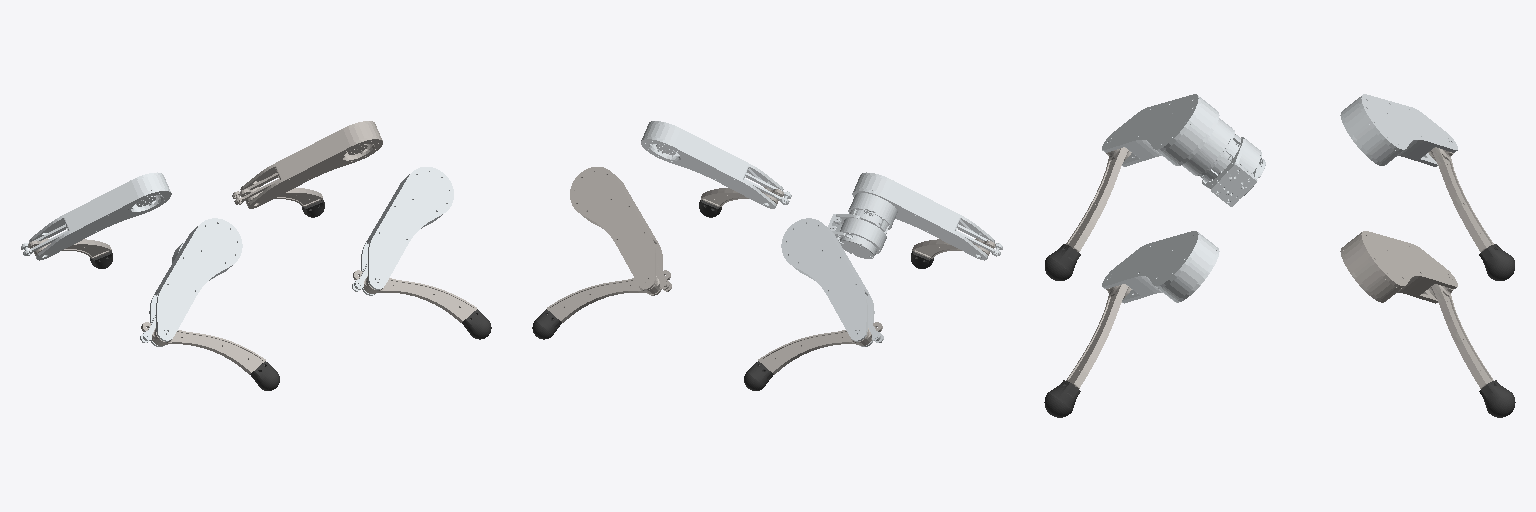
The robot description file, URDF, robot "UIKA":
<robot name="UIKA">
  <link name="base">
    <inertial>
      <origin xyz="0.0244601604295195 9.7147160935257E-06 -0.0652622301807644" rpy="0 0 0" />
      <mass value="6.47472235" />
      <inertia ixx="0.02225871" ixy="0.00009335" ixz="-0.00150776" iyy="0.09311171" iyz="-0.00001811" izz="0.10176737" />
    </inertial>
    <visual>
      <origin xyz="0 0 0" rpy="0 0 0" />
      <geometry>
        <mesh filename="../meshes/base.STL" />
      </geometry>
      <material name="">
        <color rgba="0.898039215686275 0.917647058823529 0.929411764705882 1" />
      </material>
    </visual>
    <collision>
      <origin xyz="0.09154745191 -0.001084361225 -0.05999999924" rpy="0 0 0" />
      <geometry>
        <box size="0.4913740484 0.1889490587 0.1199999989" />
      </geometry>
    </collision>
  </link>
  <link name="FL_hip">
    <inertial>
      <origin xyz="0.041502623504086 0.0086843970803633 0.00821436880776207" rpy="0 0 0" />
      <mass value="0.93308959" />
      <inertia ixx="0.00115660" ixy="-0.00005410" ixz="-0.00006410" iyy="0.00108607" iyz="-0.00014395" izz="0.00112138" />
    </inertial>
    <visual>
      <origin xyz="0 0 0" rpy="0 0 0" />
      <geometry>
        <mesh filename="../meshes/FL_hip.STL" />
      </geometry>
      <material name="">
        <color rgba="0.898039215686275 0.917647058823529 0.929411764705882 1" />
      </material>
    </visual>
    <collision>
      <origin xyz="0.04814458382 0.01172071323 0.008955933154" rpy="0 0 0" />
      <geometry>
        <box size="0.08928919625 0.09920827574 0.09695612913" />
      </geometry>
    </collision>
  </link>
  <joint name="FL_hip_joint" type="revolute">
    <origin xyz="0.153000439855044 0.0600003842452415 -0.0600006101205791" rpy="0 0 0" />
    <parent link="base" />
    <child link="FL_hip" />
    <axis xyz="1 0 0" />
    <limit lower="-1.5" upper="0" effort="17" velocity="28.80" />
  </joint>
  <link name="FL_thigh">
    <inertial>
      <origin xyz="-0.0535079311803026 0.0342248959703678 -0.0182912999249647" rpy="0 0 0" />
      <mass value="0.47644935" />
      <inertia ixx="0.00108740" ixy="0.00071343" ixz="-0.00080897" iyy="0.00227804" iyz="0.00047098" izz="0.00215817" />
    </inertial>
    <visual>
      <origin xyz="0 0 0" rpy="0 0 0" />
      <geometry>
        <mesh filename="../meshes/FL_thigh.STL" />
      </geometry>
      <material name="">
        <color rgba="0.776470588235294 0.756862745098039 0.737254901960784 1" />
      </material>
    </visual>
    <collision>
      <origin xyz="-0.07777747256 0.0466698466 -0.03210797073" rpy="-0.732565924 -0.4562952196 -0.4494476308" />
      <geometry>
        <box size="0.2705777508 0.05168404862 0.03284791567" />
      </geometry>
    </collision>
  </link>
  <joint name="FL_thigh_joint" type="revolute">
    <origin xyz="0.0560002933981102 0.0508445597819099 0.0443970251456514" rpy="0 0 0" />
    <parent link="FL_hip" />
    <child link="FL_thigh" />
    <axis xyz="0 0.753262811155553 0.657719649493638" />
    <limit lower="-0.785" upper="0.785" effort="17" velocity="28.80" />
  </joint>
  <link name="FL_calf">
    <inertial>
      <origin xyz="0.0700106998990062 -0.0161508220308323 -0.00126830095792598" rpy="0 0 0" />
      <mass value="0.14745425" />
      <inertia ixx="0.00002291" ixy="0.00003985" ixz="-0.00004564" iyy="0.00073762" iyz="0.00000899" izz="0.00073518" />
    </inertial>
    <visual>
      <origin xyz="0 0 0" rpy="0 0 0" />
      <geometry>
        <mesh filename="../meshes/FL_calf.STL" />
      </geometry>
      <material name="">
        <color rgba="0.776470588235294 0.756862745098039 0.737254901960784 1" />
      </material>
    </visual>
    <collision>
      <origin xyz="0.0835572002 -0.0137250407 -0.004052046176" rpy="-0.8511894181 -0.05312681347 -0.04650555504" />
      <geometry>
        <box size="0.2076722985 0.02715135214 0.02148741647" />
      </geometry>
    </collision>
  </link>
  <joint name="FL_calf_joint" type="revolute">
    <origin xyz="-0.152226491053868 0.105657558324466 -0.0799549009122722" rpy="0 0 0" />
    <parent link="FL_thigh" />
    <child link="FL_calf" />
    <axis xyz="0 0.753262811155552 0.657719649493639" />
    <limit lower="0.1" upper="1.11" effort="31.7" velocity="15.43" />
  </joint>
  <link name="FL_foot">
    <inertial>
      <origin xyz="-0.0105505773074865 -0.00416923992710105 0.00477478616568455" rpy="0 0 0" />
      <mass value="0.04697856" />
      <inertia ixx="0.00000818" ixy="-0.00000032" ixz="0.00000037" iyy="0.00000923" iyz="0.00000050" izz="0.00000910" />
    </inertial>
    <visual>
      <origin xyz="0 0 0" rpy="0 0 0" />
      <geometry>
        <mesh filename="../meshes/FL_foot.STL" />
      </geometry>
      <material name="">
        <color rgba="0.298039215686275 0.298039215686275 0.298039215686275 1" />
      </material>
    </visual>
    <collision>
      <origin xyz="-0.01259501558 -0.004777973425 0.005901887082" rpy="0 0 0" />
      <geometry>
        <sphere radius="0.02527480633" />
      </geometry>
    </collision>
  </link>
  <joint name="FL_foot_joint" type="fixed">
    <origin xyz="0.211745241606516 -0.00368975133737329 -0.016299725536693" rpy="0 0 0" />
    <parent link="FL_calf" />
    <child link="FL_foot" />
    <axis xyz="0 0 0" />
  </joint>
  <link name="FR_hip">
    <inertial>
      <origin xyz="0.0416082150818489 -0.0109456301889381 0.00962420477730419" rpy="0 0 0" />
      <mass value="0.93308959" />
      <inertia ixx="0.00105348" ixy="-0.00012973" ixz="0.00003991" iyy="0.00113633" iyz="0.00003275" izz="0.00114449" />
    </inertial>
    <visual>
      <origin xyz="0 0 0" rpy="0 0 0" />
      <geometry>
        <mesh filename="../meshes/FR_hip.STL" />
      </geometry>
      <material name="">
        <color rgba="0.898039215686275 0.917647058823529 0.929411764705882 1" />
      </material>
    </visual>
    <collision>
      <origin xyz="0.04814374167 -0.01172472537 0.008995161019" rpy="0 0 0" />
      <geometry>
        <box size="0.08928748308 0.0993450982 0.09694977491" />
      </geometry>
    </collision>
  </link>
  <joint name="FR_hip_joint" type="revolute">
    <origin xyz="0.153000425358075 -0.0600004472669823 -0.0600003113075975" rpy="0 0 0" />
    <parent link="base" />
    <child link="FR_hip" />
    <axis xyz="1 0 0" />
    <limit lower="0" upper="1.5" effort="17" velocity="28.80" />
  </joint>
  <link name="FR_thigh">
    <inertial>
      <origin xyz="-0.0546430623963081 -0.0347713185302399 -0.0188706114144794" rpy="0 0 0" />
      <mass value="0.48074554" />
      <inertia ixx="0.00112214" ixy="-0.00074760" ixz="-0.00084531" iyy="0.00236837" iyz="-0.00048819" izz="0.00224642" />
    </inertial>
    <visual>
      <origin xyz="0 0 0" rpy="0 0 0" />
      <geometry>
        <mesh filename="../meshes/FR_thigh.STL" />
      </geometry>
      <material name="">
        <color rgba="0.898039215686275 0.917647058823529 0.929411764705882 1" />
      </material>
    </visual>
    <collision>
      <origin xyz="-0.07822487111 -0.04710120008 -0.03174119214" rpy="0.7353276846 -0.4464736266 0.4538729622" />
      <geometry>
        <box size="0.2711148997 0.05034341871 0.03262728444" />
      </geometry>
    </collision>
  </link>
  <joint name="FR_thigh_joint" type="revolute">
    <origin xyz="0.0560001435635803 -0.0508451382424889 0.0443959916658049" rpy="0 0 0" />
    <parent link="FR_hip" />
    <child link="FR_thigh" />
    <axis xyz="0 0.753262811155038 -0.657719649494228" />
    <limit lower="-0.785" upper="0.785" effort="17" velocity="28.80" />
  </joint>
  <link name="FR_calf">
    <inertial>
      <origin xyz="0.0700106999081558 0.0161508219365641 -0.00126830087912655" rpy="0 0 0" />
      <mass value="0.14745425" />
      <inertia ixx="0.00002291" ixy="-0.00003985" ixz="-0.00004564" iyy="0.00073762" iyz="-0.00000899" izz="0.00073518" />
    </inertial>
    <visual>
      <origin xyz="0 0 0" rpy="0 0 0" />
      <geometry>
        <mesh filename="../meshes/FR_calf.STL" />
      </geometry>
      <material name="">
        <color rgba="0.776470588235294 0.756862745098039 0.737254901960784 1" />
      </material>
    </visual>
    <collision>
      <origin xyz="0.08355702524 0.01372168078 -0.004044771629" rpy="0.8523339023 -0.05320056182 0.04645680114" />
      <geometry>
        <box size="0.2076725976 0.02709136894 0.02148716021" />
      </geometry>
    </collision>
  </link>
  <joint name="FR_calf_joint" type="revolute">
    <origin xyz="-0.152226326722374 -0.105656916842211 -0.079954166245416" rpy="0 0 0" />
    <parent link="FR_thigh" />
    <child link="FR_calf" />
    <axis xyz="0 0.753262811155038 -0.657719649494228" />
    <limit lower="0.1" upper="1.11" effort="31.7" velocity="15.43" />
  </joint>
  <link name="FR_foot">
    <inertial>
      <origin xyz="-0.0105505596525039 0.0041691393732978 0.00477486519176461" rpy="0 0 0" />
      <mass value="0.04697856" />
      <inertia ixx="0.00000818" ixy="0.00000032" ixz="0.00000037" iyy="0.00000923" iyz="-0.00000050" izz="0.00000910" />
    </inertial>
    <visual>
      <origin xyz="0 0 0" rpy="0 0 0" />
      <geometry>
        <mesh filename="../meshes/FR_foot.STL" />
      </geometry>
      <material name="">
        <color rgba="0.298039215686275 0.298039215686275 0.298039215686275 1" />
      </material>
    </visual>
    <collision>
      <origin xyz="-0.01259501558 0.004715404473 0.006002067123" rpy="0 0 0" />
      <geometry>
        <sphere radius="0.02527480633" />
      </geometry>
    </collision>
  </link>
  <joint name="FR_foot_joint" type="fixed">
    <origin xyz="0.211745241606515 0.00368974797525654 -0.0162997226010469" rpy="0 0 0" />
    <parent link="FR_calf" />
    <child link="FR_foot" />
    <axis xyz="0 0 0" />
  </joint>
  <link name="RL_hip">
    <inertial>
      <origin xyz="-0.0415762323375138 0.0106832900427888 0.00992417004934181" rpy="0 0 0" />
      <mass value="0.93308959" />
      <inertia ixx="0.00113965" ixy="0.00003304" ixz="0.00002796" iyy="0.00107973" iyz="-0.00013571" izz="0.00111052" />
    </inertial>
    <visual>
      <origin xyz="0 0 0" rpy="0 0 0" />
      <geometry>
        <mesh filename="../meshes/RL_hip.STL" />
      </geometry>
      <material name="">
        <color rgba="0.898039215686275 0.917647058823529 0.929411764705882 1" />
      </material>
    </visual>
    <collision>
      <origin xyz="-0.04814351443 0.01168888435 0.008976129815" rpy="0 0 0" />
      <geometry>
        <box size="0.0892870286 0.0992726115 0.09691342613" />
      </geometry>
    </collision>
  </link>
  <joint name="RL_hip_joint" type="revolute">
    <origin xyz="-0.152999574641922 0.0600000459667993 -0.0599994570016295" rpy="0 0 0" />
    <parent link="base" />
    <child link="RL_hip" />
    <axis xyz="1 0 0" />
    <limit lower="-1.5" upper="0" effort="17" velocity="28.80" />
  </joint>
  <link name="RL_thigh">
    <inertial>
      <origin xyz="-0.0546432281259843 0.0347920398038711 -0.018853834665978" rpy="0 0 0" />
      <mass value="0.48074554" />
      <inertia ixx="0.00112214" ixy="0.00074879" ixz="-0.00084426" iyy="0.00236726" iyz="0.00048833" izz="0.00224753" />
    </inertial>
    <visual>
      <origin xyz="0 0 0" rpy="0 0 0" />
      <geometry>
        <mesh filename="../meshes/RL_thigh.STL" />
      </geometry>
      <material name="">
        <color rgba="0.898039215686275 0.917647058823529 0.929411764705882 1" />
      </material>
    </visual>
    <collision>
      <origin xyz="-0.07830379943 0.04695634479 -0.03171024505" rpy="-0.7364108602 -0.4476116713 -0.4527950218" />
      <geometry>
        <box size="0.2710880794 0.05022204309 0.03278092425" />
      </geometry>
    </collision>
  </link>
  <joint name="RL_thigh_joint" type="revolute">
    <origin xyz="-0.0559996921049242 0.0508448980603474 0.044395872026712" rpy="0 0 0" />
    <parent link="RL_hip" />
    <child link="RL_thigh" />
    <axis xyz="0 0.753262811155552 0.657719649493639" />
    <limit lower="-0.785" upper="0.785" effort="17" velocity="28.80" />
  </joint>
  <link name="RL_calf">
    <inertial>
      <origin xyz="0.0700106998990035 -0.0161508220308297 -0.00126830095791819" rpy="0 0 0" />
      <mass value="0.14745425" />
      <inertia ixx="0.00002291" ixy="0.00003985" ixz="-0.00004564" iyy="0.00073762" iyz="0.00000899" izz="0.00073518" />
    </inertial>
    <visual>
      <origin xyz="0 0 0" rpy="0 0 0" />
      <geometry>
        <mesh filename="../meshes/RL_calf.STL" />
      </geometry>
      <material name="">
        <color rgba="0.776470588235294 0.756862745098039 0.737254901960784 1" />
      </material>
    </visual>
    <collision>
      <origin xyz="0.08355485491 -0.01374565819 -0.004028340964" rpy="-0.851213705 -0.0530876326 -0.04647040152" />
      <geometry>
        <box size="0.2076716374 0.02705380749 0.02148748752" />
      </geometry>
    </collision>
  </link>
  <joint name="RL_calf_joint" type="revolute">
    <origin xyz="-0.152226491053865 0.105657558324469 -0.0799549009122762" rpy="0 0 0" />
    <parent link="RL_thigh" />
    <child link="RL_calf" />
    <axis xyz="0 0.753262811155552 0.657719649493639" />
    <limit lower="0.1" upper="1.11" effort="31.7" velocity="15.43" />
  </joint>
  <link name="RL_foot">
    <inertial>
      <origin xyz="-0.0105505773074851 -0.00416923992709536 0.00477478616567673" rpy="0 0 0" />
      <mass value="0.04697856" />
      <inertia ixx="0.00000818" ixy="-0.00000032" ixz="0.00000037" iyy="0.00000923" iyz="0.00000050" izz="0.00000910" />
    </inertial>
    <visual>
      <origin xyz="0 0 0" rpy="0 0 0" />
      <geometry>
        <mesh filename="../meshes/RL_foot.STL" />
      </geometry>
      <material name="">
        <color rgba="0.298039215686275 0.298039215686275 0.298039215686275 1" />
      </material>
    </visual>
    <collision>
      <origin xyz="-0.01259501558 -0.004777973425 0.005901887082" rpy="0 0 0" />
      <geometry>
        <sphere radius="0.02527480633" />
      </geometry>
    </collision>
  </link>
  <joint name="RL_foot_joint" type="fixed">
    <origin xyz="0.211745241606513 -0.00368975133737642 -0.0162997255366898" rpy="0 0 0" />
    <parent link="RL_calf" />
    <child link="RL_foot" />
    <axis xyz="0 0 0" />
  </joint>
  <link name="RR_hip">
    <inertial>
      <origin xyz="-0.0416441434460502 -0.0112807381867727 0.00924136075408722" rpy="0 0 0" />
      <mass value="0.93308959" />
      <inertia ixx=" 0.00114347" ixy="-0.00003702" ixz="0.00003020" iyy="0.00107167" iyz="0.00013281" izz="0.00111675" />
    </inertial>
    <visual>
      <origin xyz="0 0 0" rpy="0 0 0" />
      <geometry>
        <mesh filename="../meshes/RR_hip.STL" />
      </geometry>
      <material name="">
        <color rgba="0.898039215686275 0.917647058823529 0.929411764705882 1" />
      </material>
    </visual>
    <collision>
      <origin xyz="-0.04808488768 -0.01232027635 0.009072488174" rpy="0 0 0" />
      <geometry>
        <box size="0.08976775123 0.09853639728 0.09709561518" />
      </geometry>
    </collision>
  </link>
  <joint name="RR_hip_joint" type="revolute">
    <origin xyz="-0.152999574641922 -0.0599994732330435 -0.0600001395591401" rpy="0 0 0" />
    <parent link="base" />
    <child link="RR_hip" />
    <axis xyz="1 0 0" />
    <limit lower="0" upper="1.5" effort="17" velocity="28.80" />
  </joint>
  <link name="RR_thigh">
    <inertial>
      <origin xyz="-0.0546430755155685 -0.0347713241241802 -0.0188706178210186" rpy="0 0 0" />
      <mass value="0.48074554" />
      <inertia ixx="0.00112214" ixy="-0.00074760" ixz="-0.00084531" iyy="0.00236837" iyz="-0.00048819" izz="0.00224642" />
    </inertial>
    <visual>
      <origin xyz="0 0 0" rpy="0 0 0" />
      <geometry>
        <mesh filename="../meshes/RR_thigh.STL" />
      </geometry>
      <material name="">
        <color rgba="0.898039215686275 0.917647058823529 0.929411764705882 1" />
      </material>
    </visual>
    <collision>
      <origin xyz="-0.07821621533 -0.04710553717 -0.03174936947" rpy="0.7353432916 -0.4464681684 0.4538696304" />
      <geometry>
        <box size="0.2711113719 0.05036885518 0.0326225581" />
      </geometry>
    </collision>
  </link>
  <joint name="RR_thigh_joint" type="revolute">
    <origin xyz="-0.0559998564364221 -0.0508461122763563 0.0443958199174349" rpy="0 0 0" />
    <parent link="RR_hip" />
    <child link="RR_thigh" />
    <axis xyz="0 0.753262811155037 -0.657719649494228" />
    <limit lower="-0.785" upper="0.785" effort="17" velocity="28.80" />
  </joint>
  <link name="RR_calf">
    <inertial>
      <origin xyz="0.0700106999081562 0.0161508219364892 -0.00126830087921848" rpy="0 0 0" />
      <mass value="0.14745425" />
      <inertia ixx="0.00002291" ixy="-0.00003985" ixz="-0.00004564" iyy="0.00073762" iyz="-0.00000899" izz="0.00073518" />
    </inertial>
    <visual>
      <origin xyz="0 0 0" rpy="0 0 0" />
      <geometry>
        <mesh filename="../meshes/RR_calf.STL" />
      </geometry>
      <material name="">
        <color rgba="0.776470588235294 0.756862745098039 0.737254901960784 1" />
      </material>
    </visual>
    <collision>
      <origin xyz="0.08355456196 0.01374457039 -0.004018530258" rpy="0.8523335766 -0.05320048518 0.04645672745" />
      <geometry>
        <box size="0.2076725962 0.02704406263 0.02148733896" />
      </geometry>
    </collision>
  </link>
  <joint name="RR_calf_joint" type="revolute">
    <origin xyz="-0.152226326722374 -0.105656916842211 -0.079954166245416" rpy="0 0 0" />
    <parent link="RR_thigh" />
    <child link="RR_calf" />
    <axis xyz="0 0.753262811155037 -0.657719649494229" />
    <limit lower="0.1" upper="1.11" effort="31.7" velocity="15.43" />
  </joint>
  <link name="RR_foot">
    <inertial>
      <origin xyz="-0.0105505596525041 0.00416913937322885 0.00477486519167573" rpy="0 0 0" />
      <mass value="0.04697856" />
      <inertia ixx="0.00000818" ixy="0.00000032" ixz="0.00000037" iyy="0.00000923" iyz="-0.00000050" izz="0.00000910" />
    </inertial>
    <visual>
      <origin xyz="0 0 0" rpy="0 0 0" />
      <geometry>
        <mesh filename="../meshes/RR_foot.STL" />
      </geometry>
      <material name="">
        <color rgba="0.298039215686275 0.298039215686275 0.298039215686275 1" />
      </material>
    </visual>
    <collision>
      <origin xyz="-0.01259501558 0.004715404473 0.006002067123" rpy="0 0 0" />
      <geometry>
        <sphere radius="0.02527480633" />
      </geometry>
    </collision>
  </link>
  <joint name="RR_foot_joint" type="fixed">
    <origin xyz="0.211745241606515 0.00368974797525667 -0.0162997226010466" rpy="0 0 0" />
    <parent link="RR_calf" />
    <child link="RR_foot" />
    <axis xyz="0 0 0" />
  </joint>
</robot>

--- Render facts (derived) ---
Views: 3 orthographic renders of the robot side by side, from view 1: azimuth 30°, elevation 25°; view 2: azimuth 150°, elevation 25°; view 3: azimuth 270°, elevation 25°.
Model UIKA with 17 links and 16 joints (12 revolute, 4 fixed), rooted at base, posed all joints at 0 but 4 set to mid-range because 0 is outside their limits (FL_calf_joint = 0.605, FR_calf_joint = 0.605, RL_calf_joint = 0.605, RR_calf_joint = 0.605).
Links seen in each view (by area): view 1: FR_thigh, RR_thigh, FL_thigh, RL_thigh, FR_calf, RR_calf, FL_calf, RL_calf, RR_foot, FR_foot; view 2: FL_thigh, RL_thigh, FR_thigh, RR_thigh, RR_hip, FL_calf, RL_calf, FR_calf, RR_calf, RL_foot, FL_foot; view 3: RL_thigh, RR_thigh, FL_thigh, FR_thigh, RR_hip, RL_calf, RR_calf, FL_calf, FR_calf, FL_foot, FR_foot, RL_foot (+1 smaller).
Link boxes in pixels (x1,y1,x2,y2): FR_thigh: (352, 167, 453, 295); RR_thigh: (140, 218, 242, 346); FL_thigh: (232, 121, 382, 208); RL_thigh: (21, 172, 171, 260); FR_calf: (353, 270, 476, 322); RR_calf: (141, 322, 265, 374); FL_calf: (240, 187, 322, 206); RL_calf: (28, 238, 111, 258); RR_foot: (250, 361, 279, 390); FR_foot: (462, 309, 491, 339); FL_thigh: (570, 167, 671, 295); RL_thigh: (781, 218, 883, 346); FR_thigh: (641, 121, 791, 208); RR_thigh: (852, 172, 1002, 260); RR_hip: (828, 193, 897, 258); FL_calf: (547, 270, 670, 322); RL_calf: (758, 322, 882, 374); FR_calf: (701, 187, 783, 206); RR_calf: (912, 238, 995, 258); RL_foot: (744, 361, 773, 390); FL_foot: (532, 309, 561, 339); RL_thigh: (1340, 94, 1457, 166); RR_thigh: (1102, 94, 1219, 166); FL_thigh: (1340, 231, 1457, 303); FR_thigh: (1102, 231, 1219, 303); RR_hip: (1182, 118, 1265, 206); RL_calf: (1428, 147, 1493, 251); RR_calf: (1066, 147, 1131, 251); FL_calf: (1428, 284, 1493, 388); FR_calf: (1066, 284, 1131, 388); FL_foot: (1479, 380, 1515, 417); FR_foot: (1044, 380, 1080, 417); RL_foot: (1479, 244, 1514, 280).
Bounding box of the posed robot: 0.6539 × 0.6098 × 0.2537 m (x, y, z).
13 mesh visuals loaded from 17 distinct referenced files (13 binary STL); not drawn: 4 (reference not matched to a file when rendering).
